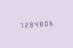eight: (27, 20, 31, 28), (37, 19, 41, 27)
four: (32, 20, 36, 27)
seven: (17, 21, 21, 29)
six: (47, 19, 51, 26)
two: (22, 20, 26, 28)
zero: (42, 19, 46, 27)
